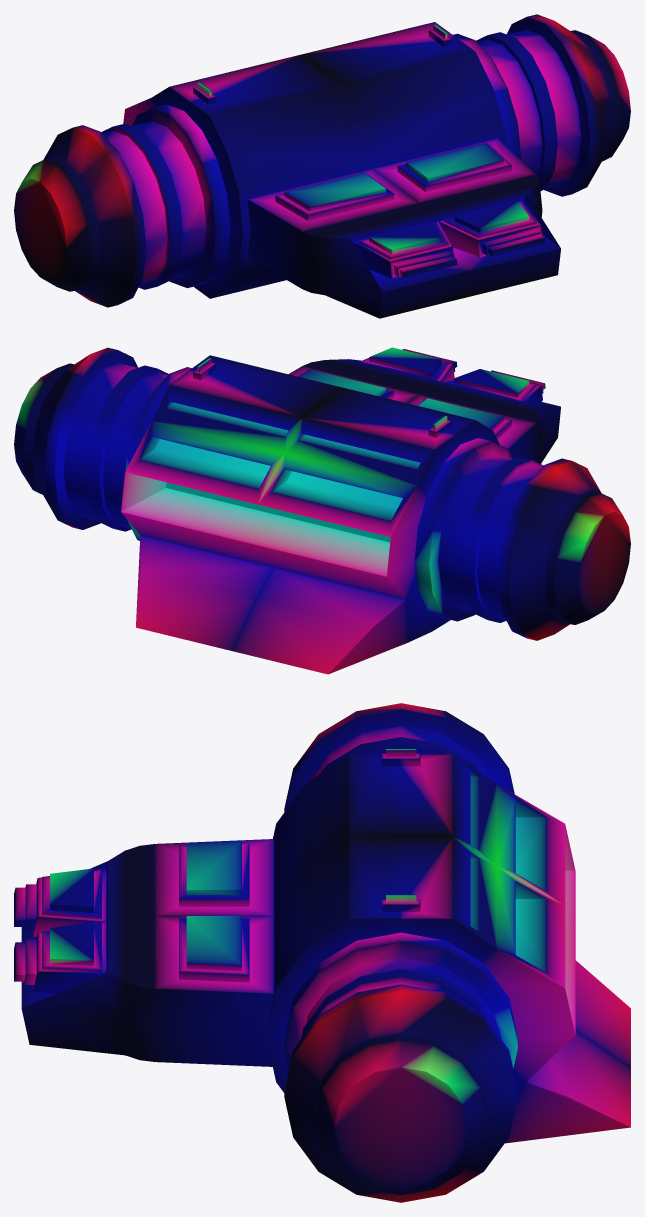
The model's file is wpn_turret_03.fbx.
3 renders of one model, top to bottom at view 1: azimuth 30°, elevation 25°; view 2: azimuth 150°, elevation 25°; view 3: azimuth 270°, elevation 25°, orthographic. The views are drawn at different scales.
Parts seen in each view (by area): view 1: wpn_turret_03; view 2: wpn_turret_03; view 3: wpn_turret_03.
Boxes of the visible parts, left/top/right/bottom form: wpn_turret_03: left=14, top=14, right=630, bottom=318; wpn_turret_03: left=14, top=347, right=630, bottom=674; wpn_turret_03: left=14, top=703, right=630, bottom=1202.
Bounding box in the file's own units: 2391 × 822 × 1783.
